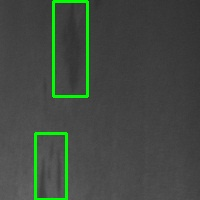inclusion: (53, 1, 87, 96), (35, 133, 66, 199)
